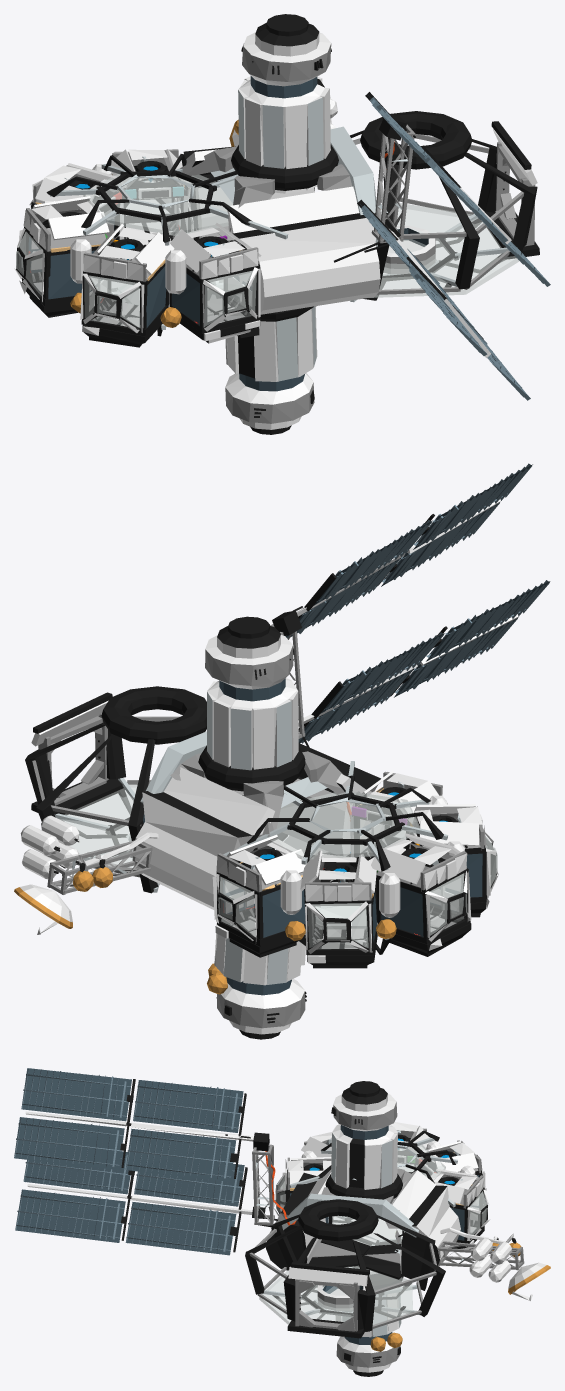
Rendered from station.glb.
The picture shows the model from 3 angles, top to bottom: view 1: azimuth 30°, elevation 25°; view 2: azimuth 150°, elevation 25°; view 3: azimuth 270°, elevation 25°; orthographic projection. The views are drawn at different scales.
Parts seen in each view (by area): view 1: group733421085, group960153971, group1172654828, group1426375924, group903055917, group452900679, group2084726423, group909942996; view 2: group733421085, group960153971, group1426375924, group2084726423, group1172654828, group452900679, group903055917, group909942996; view 3: group452900679, group960153971, group733421085, group2084726423, group1426375924, group1172654828, group903055917, group909942996.
Part boxes in pixels (left/top/right/bottom): group733421085: left=14, top=32, right=537, bottom=429; group960153971: left=16, top=14, right=539, bottom=434; group1172654828: left=16, top=166, right=519, bottom=327; group1426375924: left=16, top=43, right=535, bottom=423; group903055917: left=49, top=90, right=510, bottom=381; group452900679: left=29, top=76, right=543, bottom=391; group2084726423: left=361, top=97, right=550, bottom=400; group909942996: left=70, top=119, right=238, bottom=327; group733421085: left=20, top=499, right=518, bottom=1034; group960153971: left=25, top=514, right=496, bottom=1039; group1426375924: left=32, top=624, right=498, bottom=1028; group2084726423: left=285, top=463, right=549, bottom=743; group1172654828: left=59, top=784, right=497, bottom=949; group452900679: left=143, top=464, right=550, bottom=995; group903055917: left=54, top=692, right=461, bottom=984; group909942996: left=14, top=867, right=396, bottom=994; group452900679: left=14, top=1068, right=479, bottom=1345; group960153971: left=120, top=1079, right=516, bottom=1376; group733421085: left=25, top=1094, right=546, bottom=1372; group2084726423: left=14, top=1069, right=243, bottom=1252; group1426375924: left=249, top=1102, right=524, bottom=1367; group1172654828: left=259, top=1138, right=487, bottom=1324; group903055917: left=255, top=1130, right=466, bottom=1336; group909942996: left=370, top=1242, right=550, bottom=1351.
Size of the model in its own units: 6.29 by 5.25 by 8.77.
